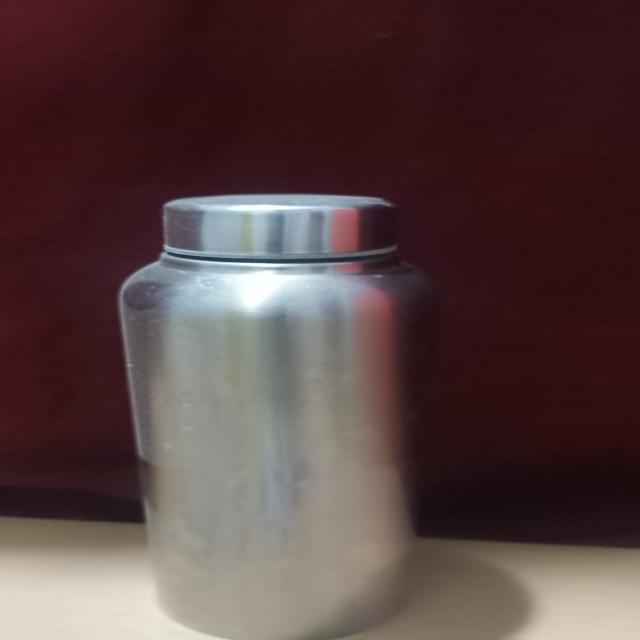bottle: (78, 176, 469, 640)
